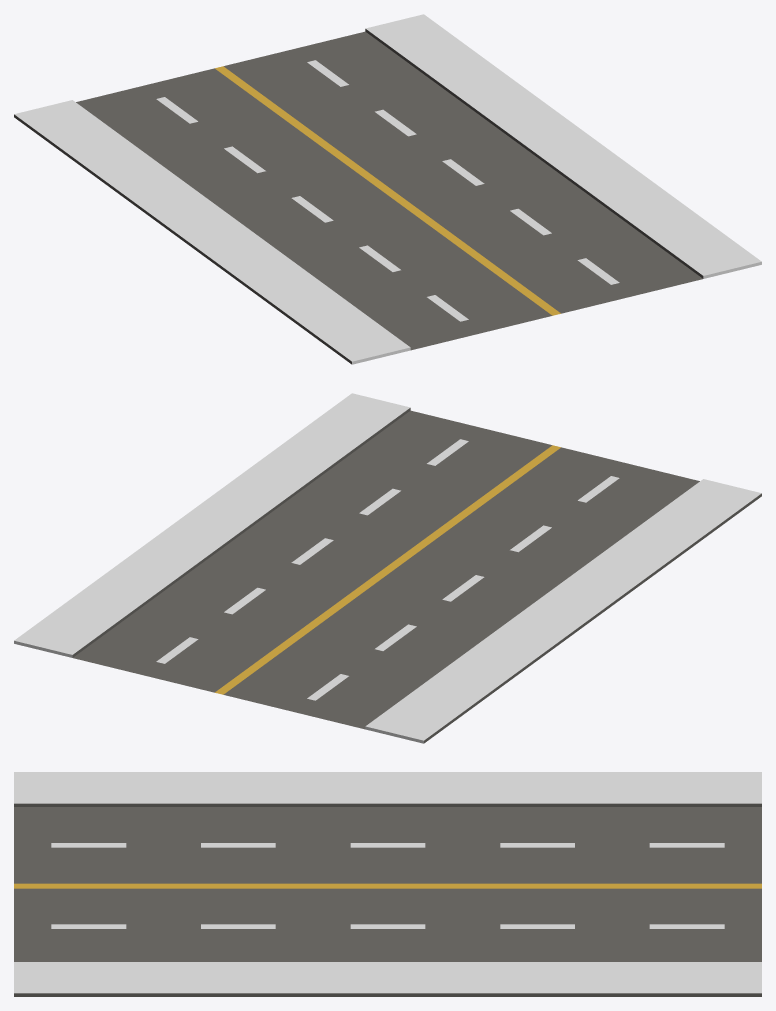
The model's file is RoadShort.fbx.
3 renders of one model, top to bottom at view 1: azimuth 30°, elevation 25°; view 2: azimuth 150°, elevation 25°; view 3: azimuth 270°, elevation 25°, orthographic. The views are drawn at different scales.
Visible parts, largest first — view 1: StraightRoadShort; view 2: StraightRoadShort; view 3: StraightRoadShort.
Boxes of the visible parts, box(x1,y1,x2,y2) form: StraightRoadShort: box(14, 14, 761, 364); StraightRoadShort: box(14, 393, 761, 743); StraightRoadShort: box(14, 772, 761, 996).
Size of the model in its own units: 1400 by 10 by 2000.
